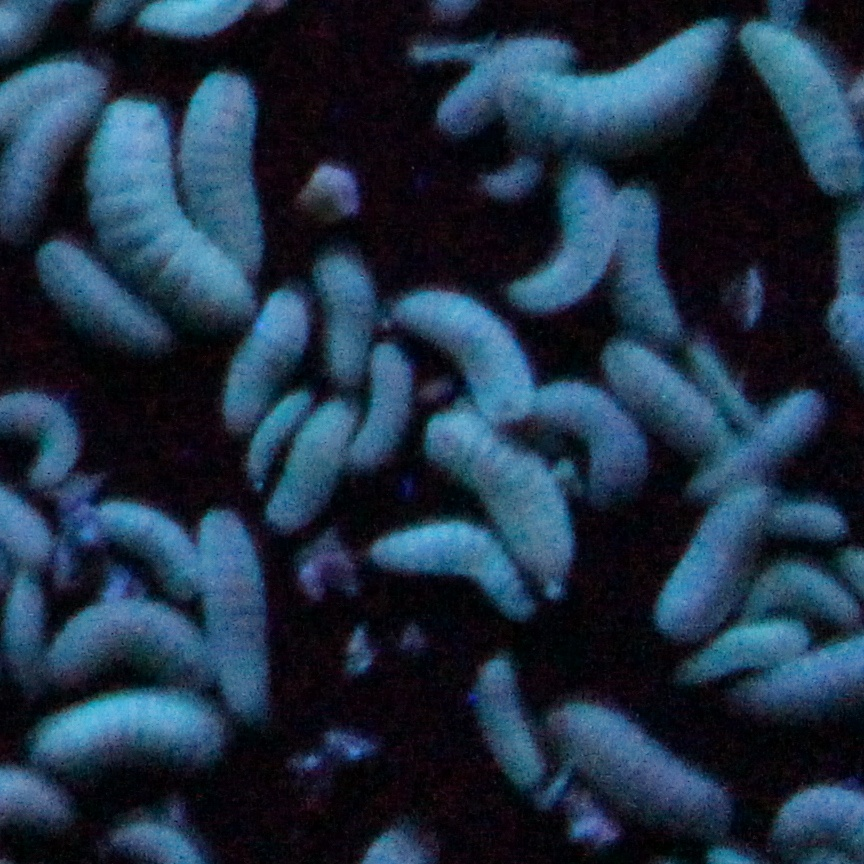larve: (88, 103, 226, 323), (485, 37, 723, 154), (427, 406, 567, 585), (557, 700, 734, 826), (738, 27, 852, 207), (658, 479, 769, 641), (30, 681, 223, 774), (399, 288, 527, 406), (198, 511, 268, 720), (373, 532, 537, 617), (538, 383, 649, 506), (37, 247, 167, 351), (528, 163, 619, 302), (605, 343, 721, 451), (44, 600, 191, 683), (191, 83, 266, 243), (614, 190, 688, 340), (466, 662, 546, 789), (699, 403, 822, 485), (99, 499, 199, 594), (279, 411, 354, 519), (698, 617, 804, 685), (315, 246, 368, 376), (748, 563, 853, 628), (350, 359, 410, 466), (241, 291, 284, 413), (7, 576, 41, 677)
